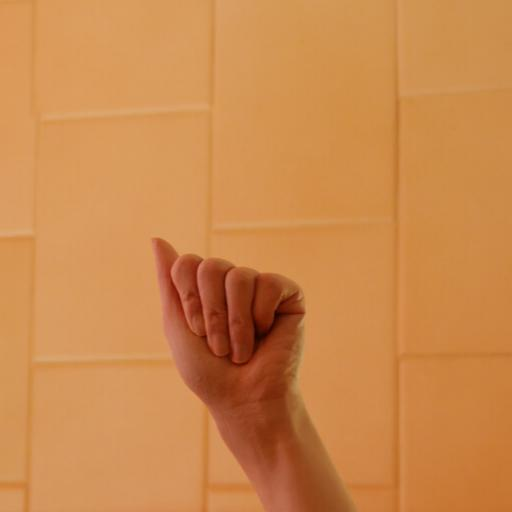A: (144, 219, 322, 419)
